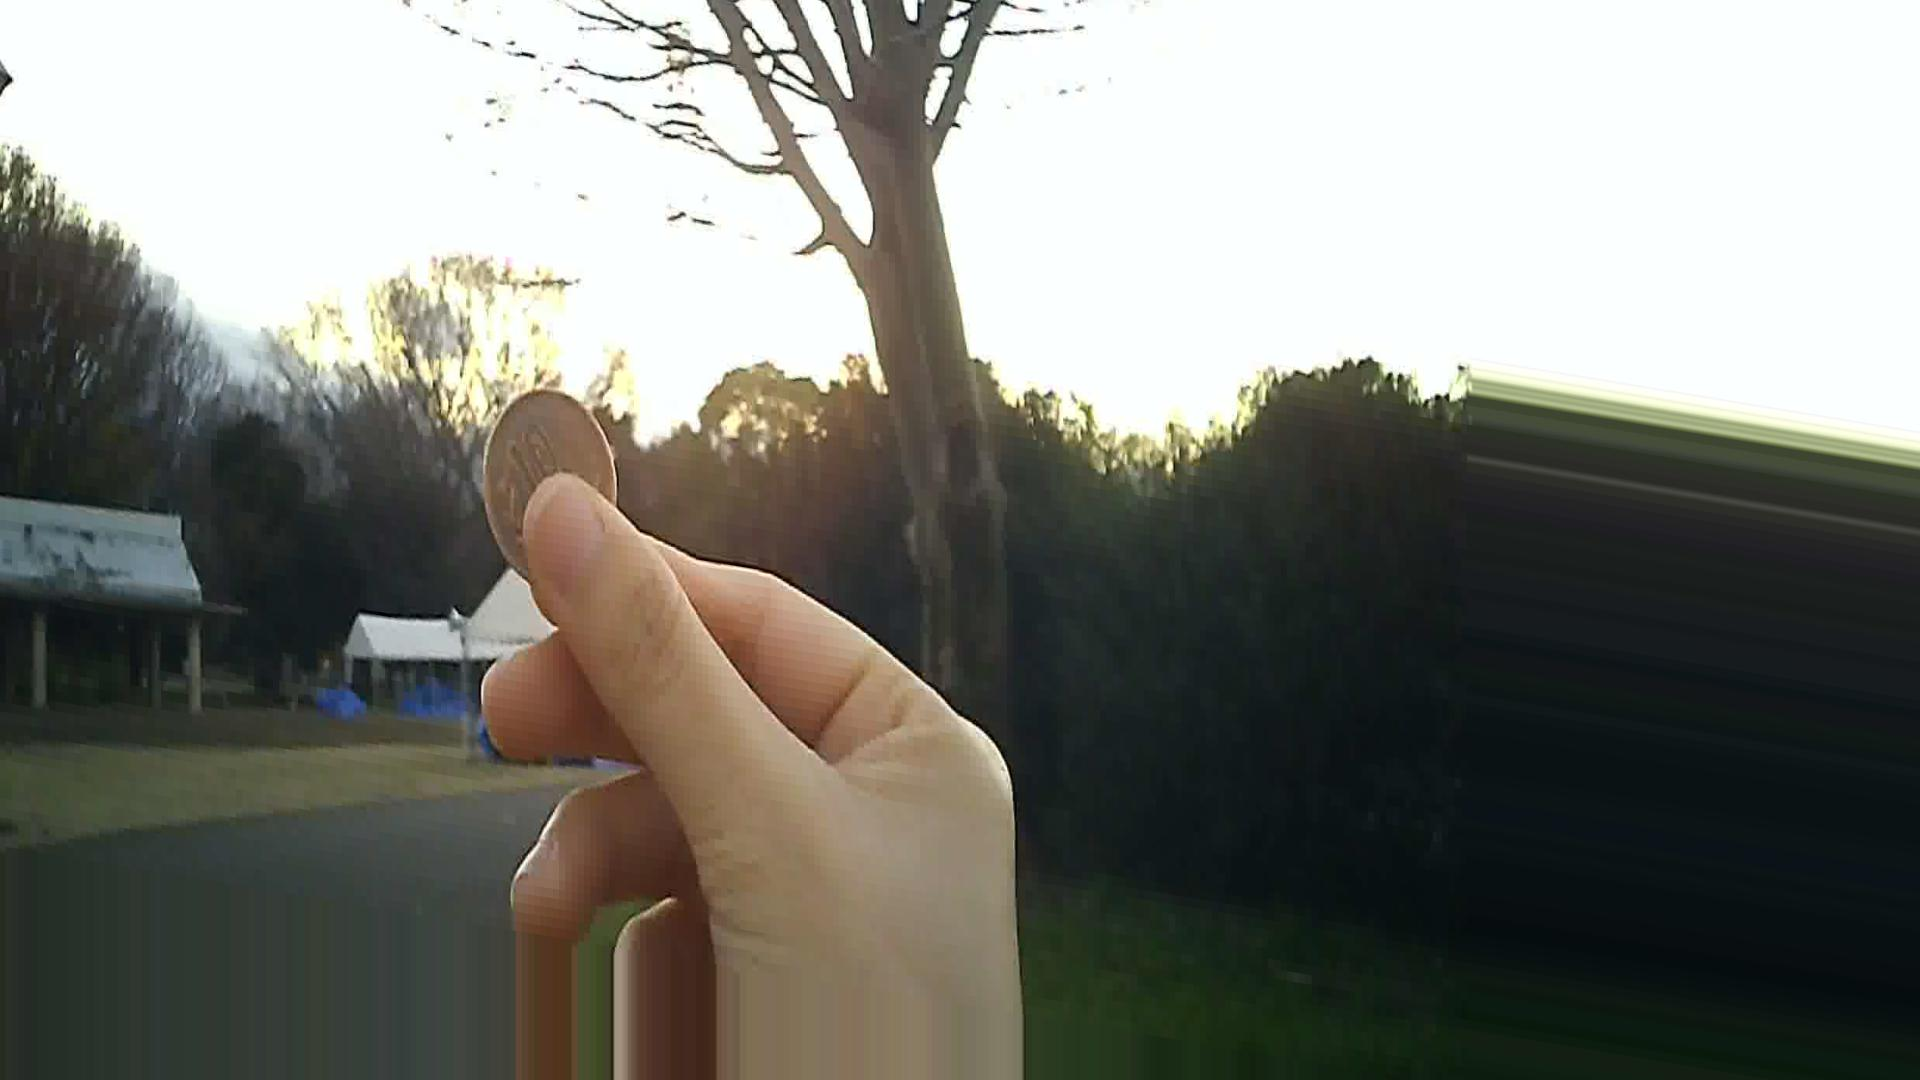10 Yen: (469, 386, 629, 582)
